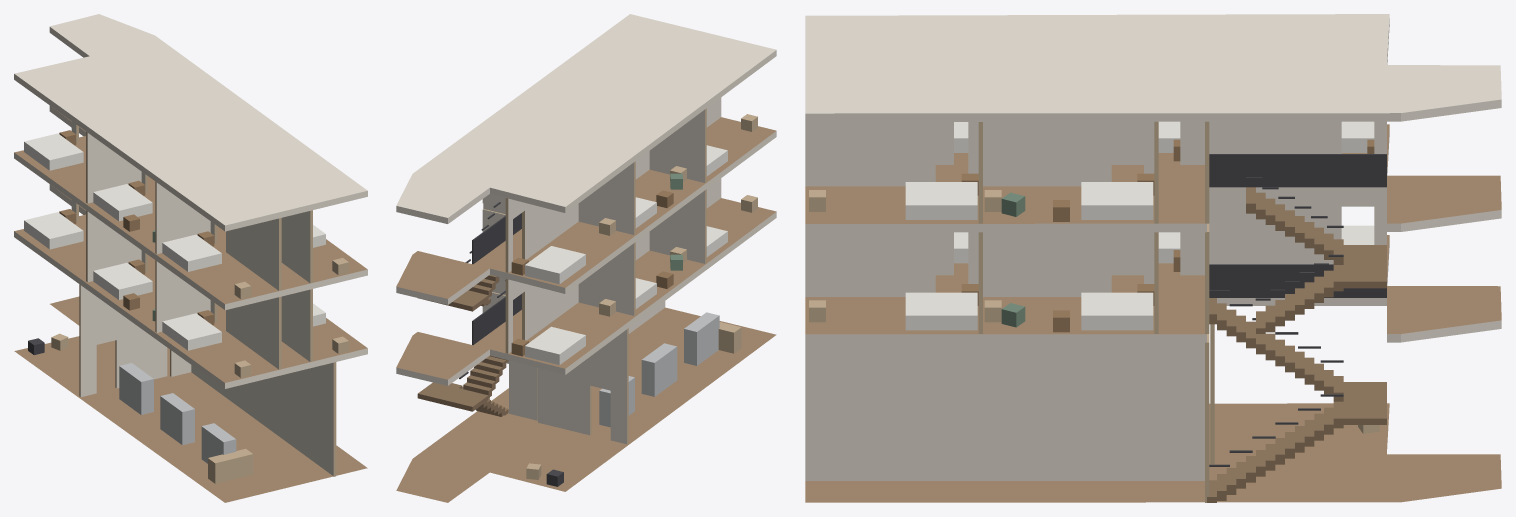
File: interior.glb
3 renders of one model, left to right at view 1: azimuth 30°, elevation 25°; view 2: azimuth 150°, elevation 25°; view 3: azimuth 270°, elevation 25°, orthographic. The views are drawn at different scales.
Visible parts, largest first — view 1: slabs, partitions, coarse-s1, coarse-s2, coarse-s0; view 2: slabs, partitions, stair, coarse-s0, coarse-s2, coarse-s1; view 3: slabs, partitions, stair, coarse-s2, coarse-s1.
Boxes of the visible parts, x1,y1,x2,y2 form: slabs: (14,14,367,502); partitions: (71,121,336,476); coarse-s1: (24,209,348,377); coarse-s2: (24,130,348,298); coarse-s0: (28,333,253,483); slabs: (396,14,776,502); partitions: (482,97,721,444); stair: (417,202,521,416); coarse-s0: (526,312,741,486); coarse-s2: (511,114,757,284); coarse-s1: (511,195,757,364); slabs: (805,14,1501,502); partitions: (805,121,1386,502); stair: (1207,154,1386,502); coarse-s2: (809,121,1374,221); coarse-s1: (809,225,1374,332).
Size of the model in its own units: 6.52 by 11.92 by 19.3.
